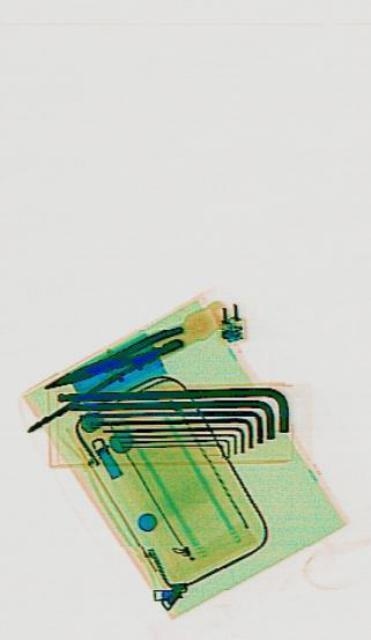Pliers: (39, 320, 184, 398)
